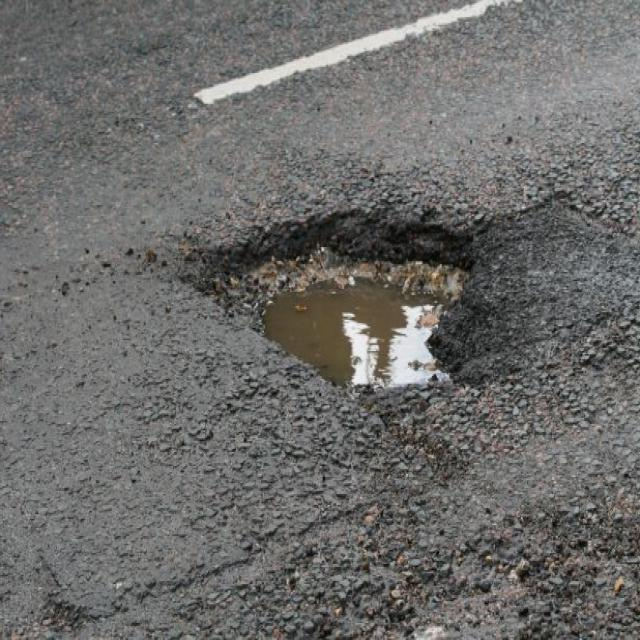Pothole: (191, 209, 486, 404)
